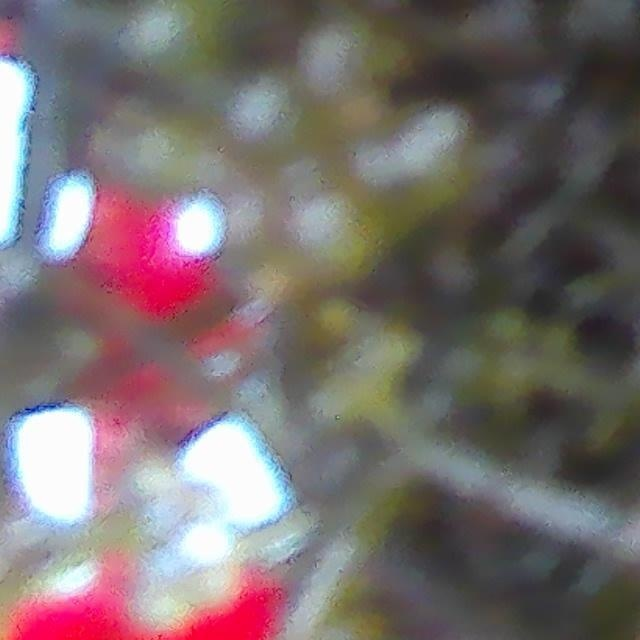SeaGrape: (119, 0, 217, 79)
